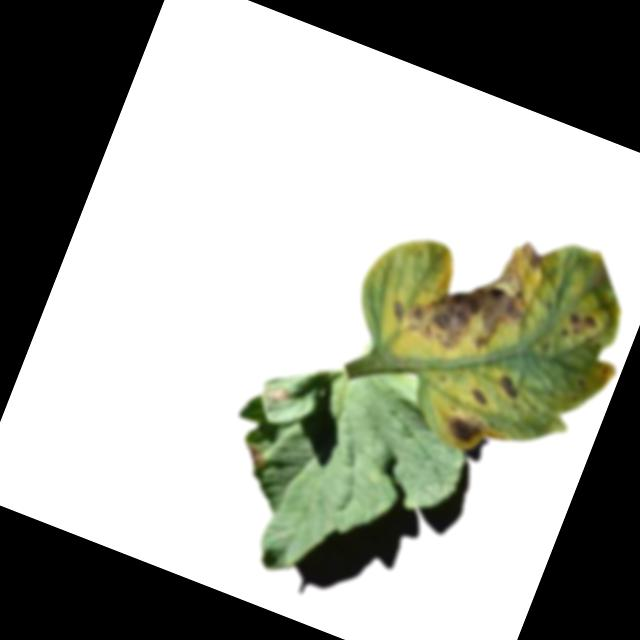Early_blight: (381, 203, 555, 377), (441, 410, 491, 451), (558, 307, 598, 347), (239, 441, 271, 472), (261, 383, 294, 410), (495, 376, 522, 404), (469, 389, 490, 412)
